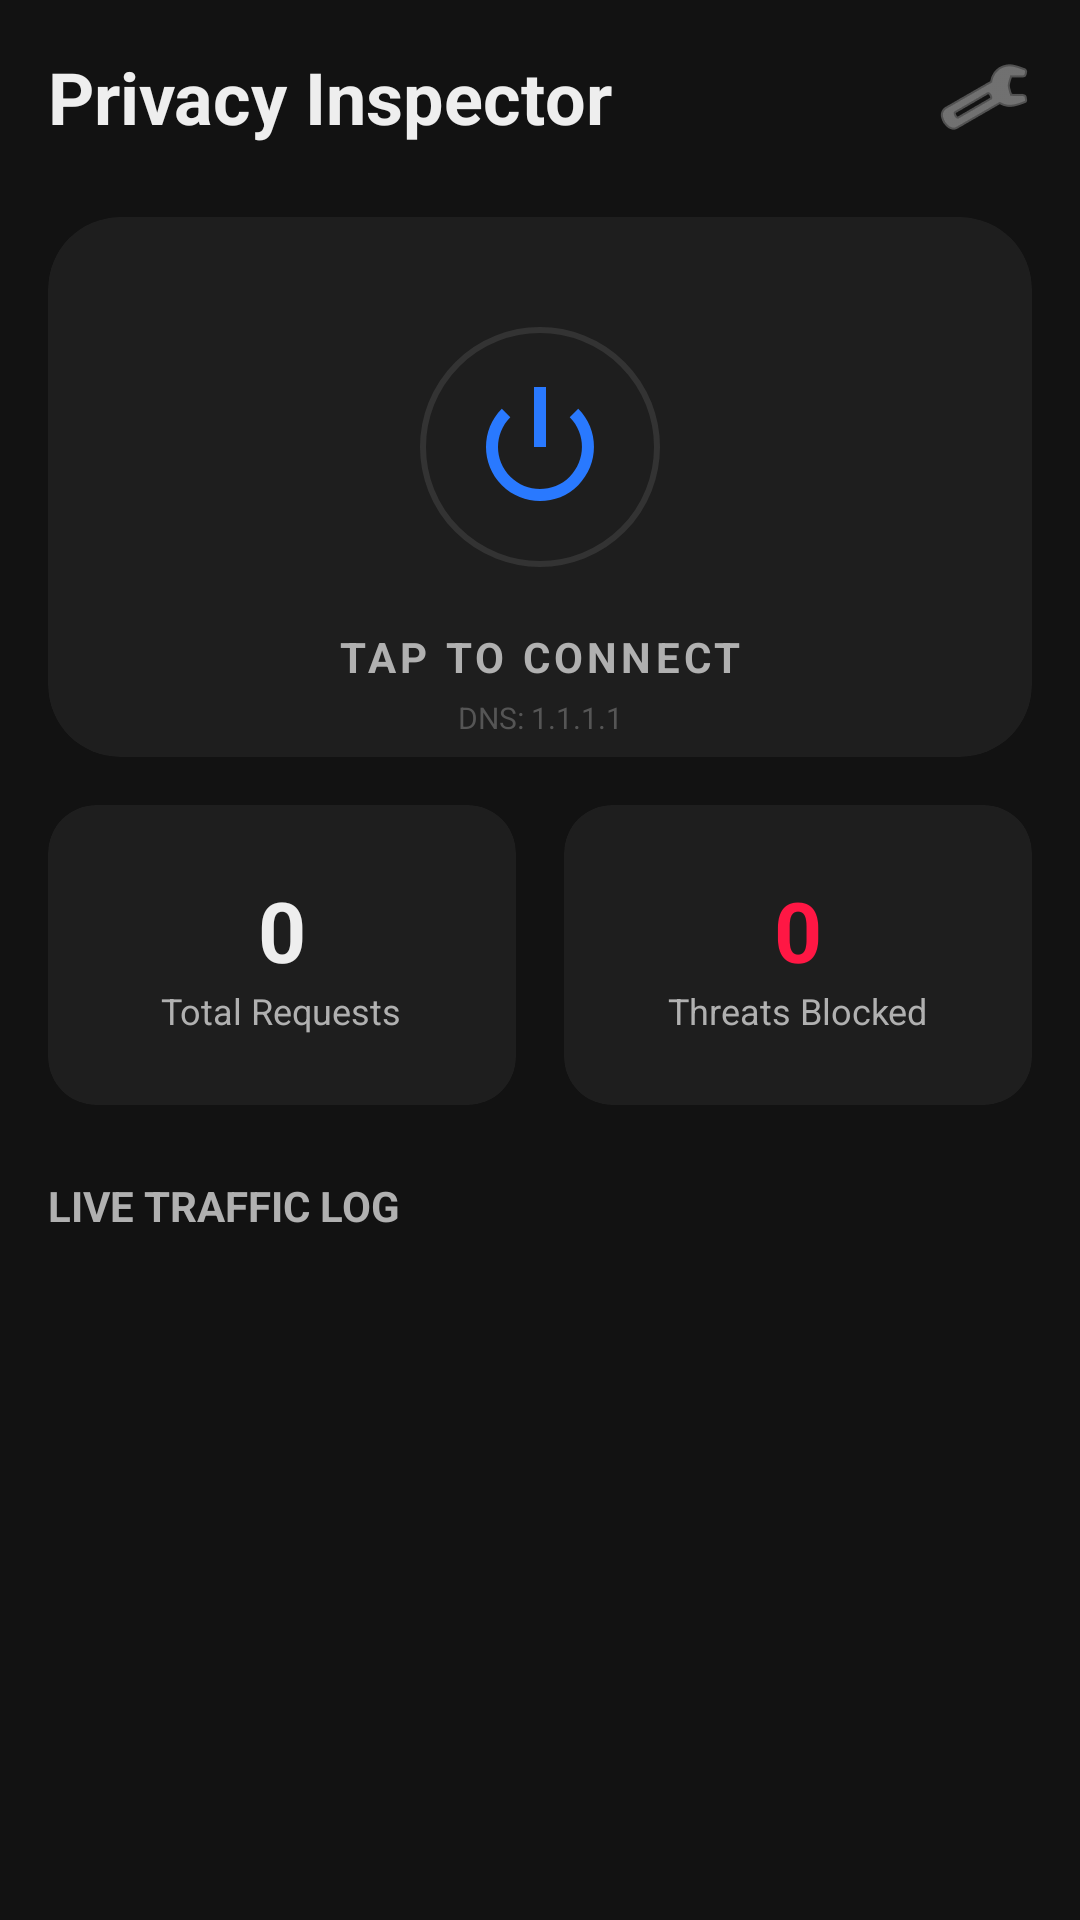

Where to tap for icons on this 1080 × 1920 app screen, as (x,y):
lock power off: (540,444)
preferences: (984,97)
